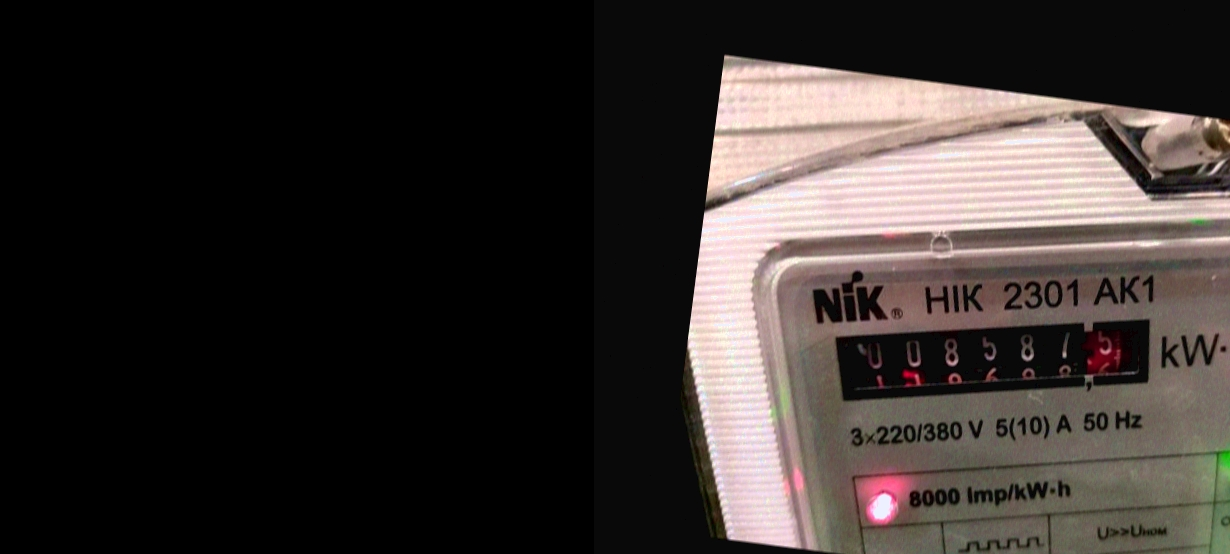0: (898, 333, 928, 370), (859, 336, 889, 371)
5: (975, 330, 1002, 364), (1091, 323, 1117, 356)
6: (1093, 358, 1113, 377)
7: (1051, 327, 1077, 363)
8: (937, 334, 965, 369), (1012, 329, 1039, 365)
screen: (818, 278, 1178, 443)
